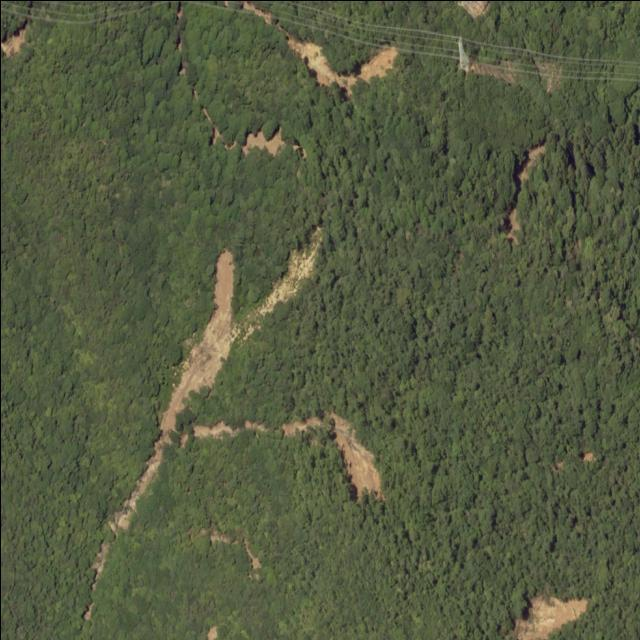landslide: (107, 227, 319, 534), (281, 412, 380, 497), (286, 34, 397, 93), (516, 597, 587, 640), (241, 127, 283, 154), (191, 422, 239, 438)
